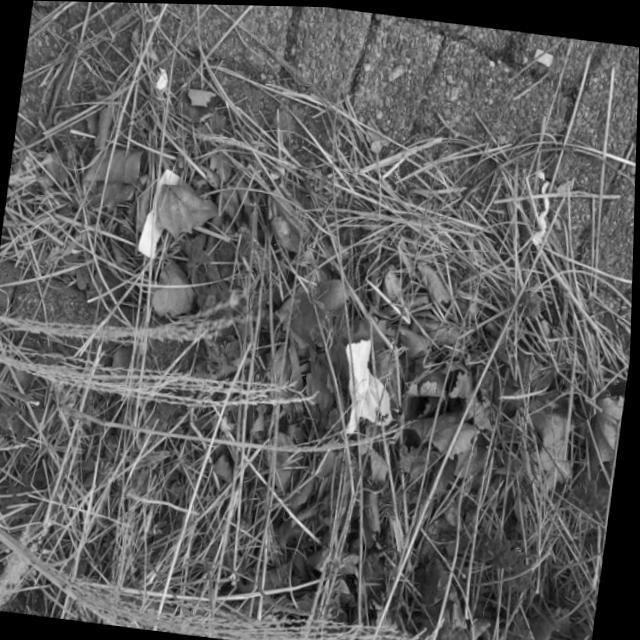Paper: (336, 332, 404, 437), (136, 162, 182, 260), (530, 176, 553, 244)
